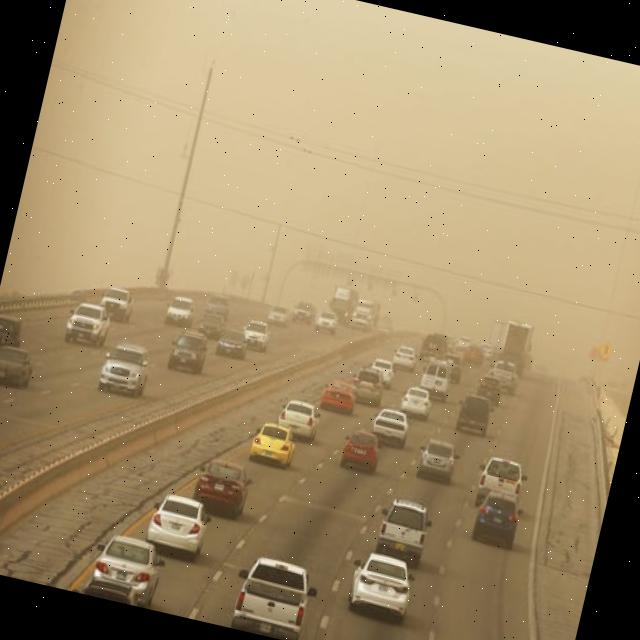bus: (482, 314, 538, 380), (328, 281, 364, 327), (350, 298, 380, 334)
car: (229, 552, 317, 640), (86, 530, 168, 606), (347, 548, 419, 622), (374, 494, 436, 568), (148, 490, 214, 556), (191, 456, 255, 520), (96, 336, 156, 398), (473, 453, 530, 511), (470, 490, 524, 548), (64, 298, 114, 347), (248, 418, 298, 466), (415, 434, 462, 484), (276, 395, 324, 443), (338, 426, 385, 473), (166, 327, 212, 375), (368, 404, 414, 449), (0, 340, 39, 391), (455, 392, 496, 438), (98, 283, 137, 322), (420, 357, 457, 398), (214, 322, 254, 359), (320, 378, 360, 414), (398, 383, 436, 419), (352, 366, 388, 404), (485, 357, 522, 392), (161, 294, 196, 329), (242, 316, 274, 351), (371, 354, 401, 384), (0, 315, 19, 362), (202, 309, 230, 339), (205, 292, 232, 320), (313, 307, 342, 333), (266, 303, 292, 328), (292, 300, 318, 324), (392, 344, 417, 366)
